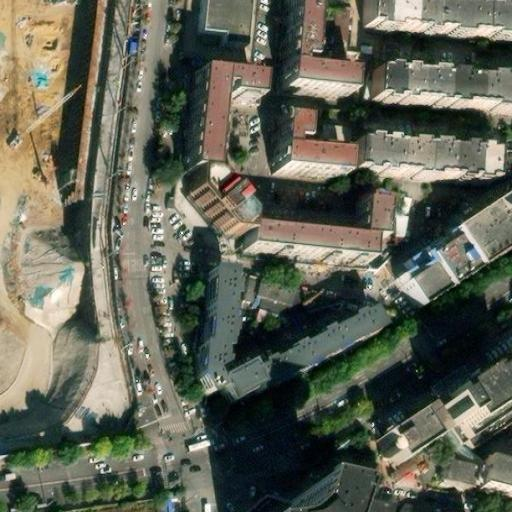building: (232, 306, 391, 406), (257, 201, 396, 263), (185, 69, 254, 172), (360, 129, 497, 175), (398, 235, 472, 316), (382, 63, 512, 108), (420, 374, 499, 444), (445, 206, 512, 283), (371, 0, 512, 36), (369, 401, 436, 471), (191, 271, 224, 391), (268, 126, 337, 181), (197, 191, 249, 249), (468, 343, 512, 394), (249, 278, 302, 319), (438, 450, 481, 489), (476, 463, 512, 498), (231, 489, 282, 512)
